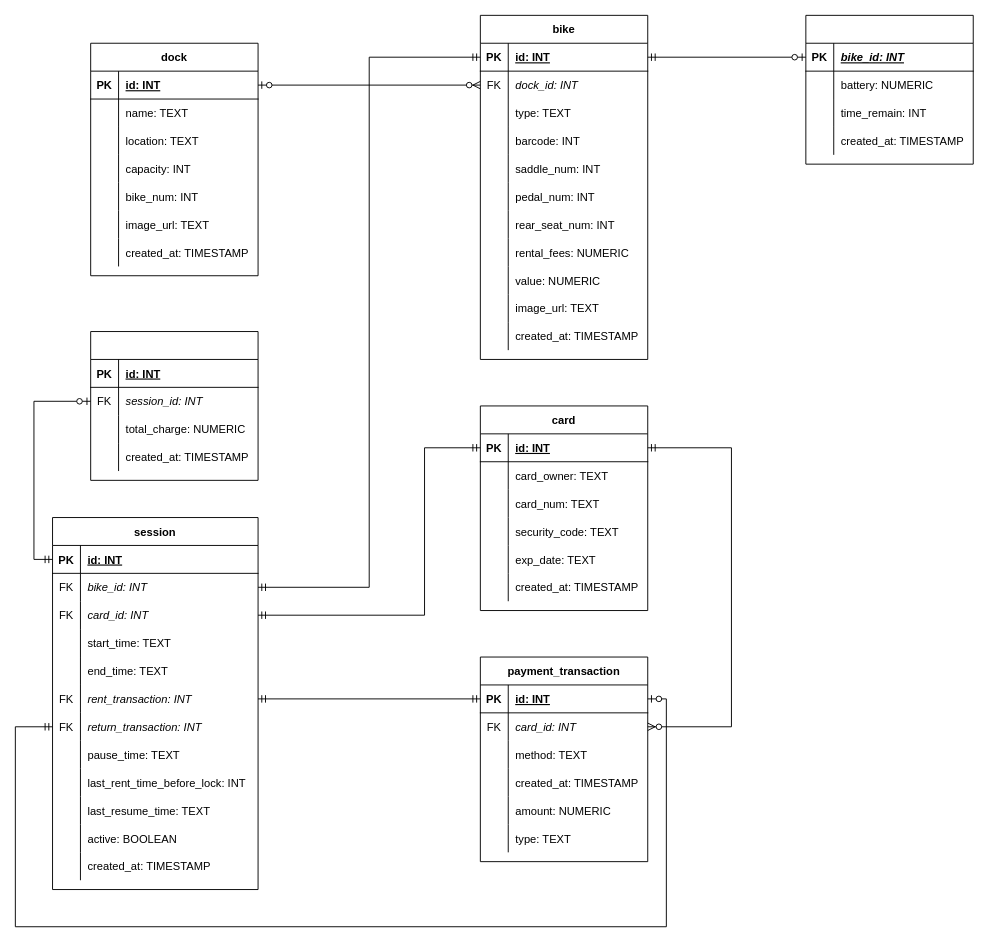
Some shapes in this 989 by 942 pixel diagram are drawn without their labels. Each missing label, with the box of its shape:
e_bike: (805, 14, 973, 164)
invoice: (90, 331, 258, 480)
